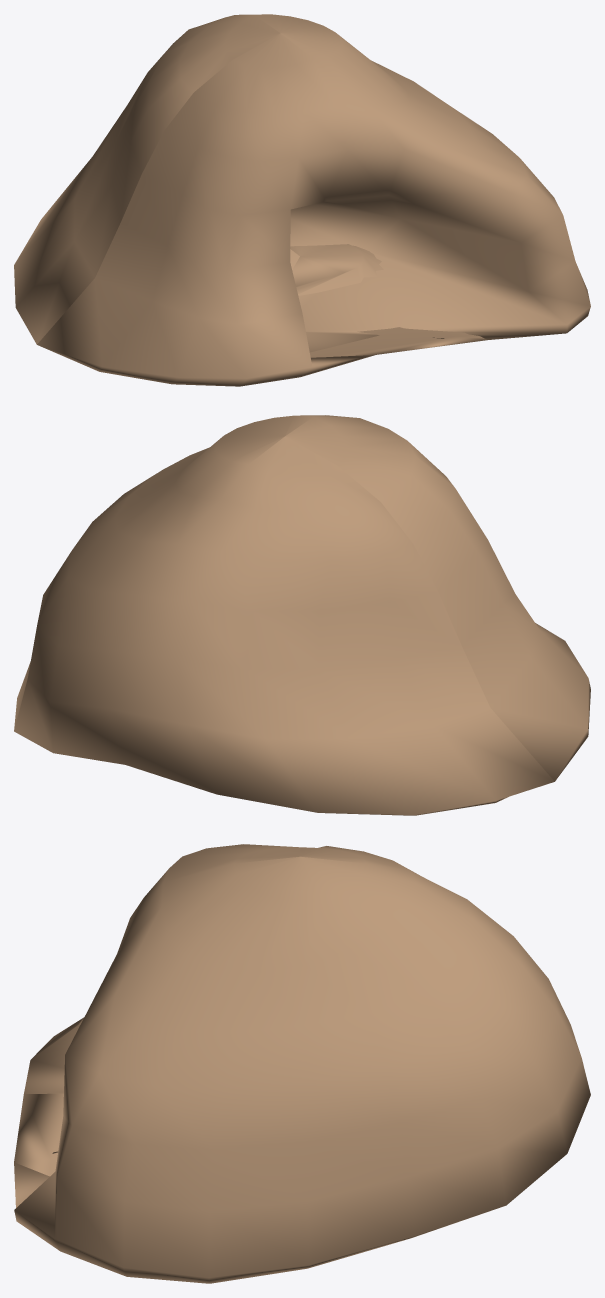
File: cave_example_fixed.glb
The picture shows the model from 3 angles, top to bottom: view 1: azimuth 30°, elevation 25°; view 2: azimuth 150°, elevation 25°; view 3: azimuth 270°, elevation 25°; orthographic projection. The views are drawn at different scales.
Parts seen in each view (by area): view 1: CombinedMesh_MaterialSlots; view 2: CombinedMesh_MaterialSlots; view 3: CombinedMesh_MaterialSlots.
Part boxes in pixels (left/top/right/bottom): CombinedMesh_MaterialSlots: left=14, top=14, right=590, bottom=386; CombinedMesh_MaterialSlots: left=14, top=415, right=590, bottom=815; CombinedMesh_MaterialSlots: left=14, top=844, right=590, bottom=1283.
Bounding box in the file's own units: 2.07 × 1.12 × 1.93.
